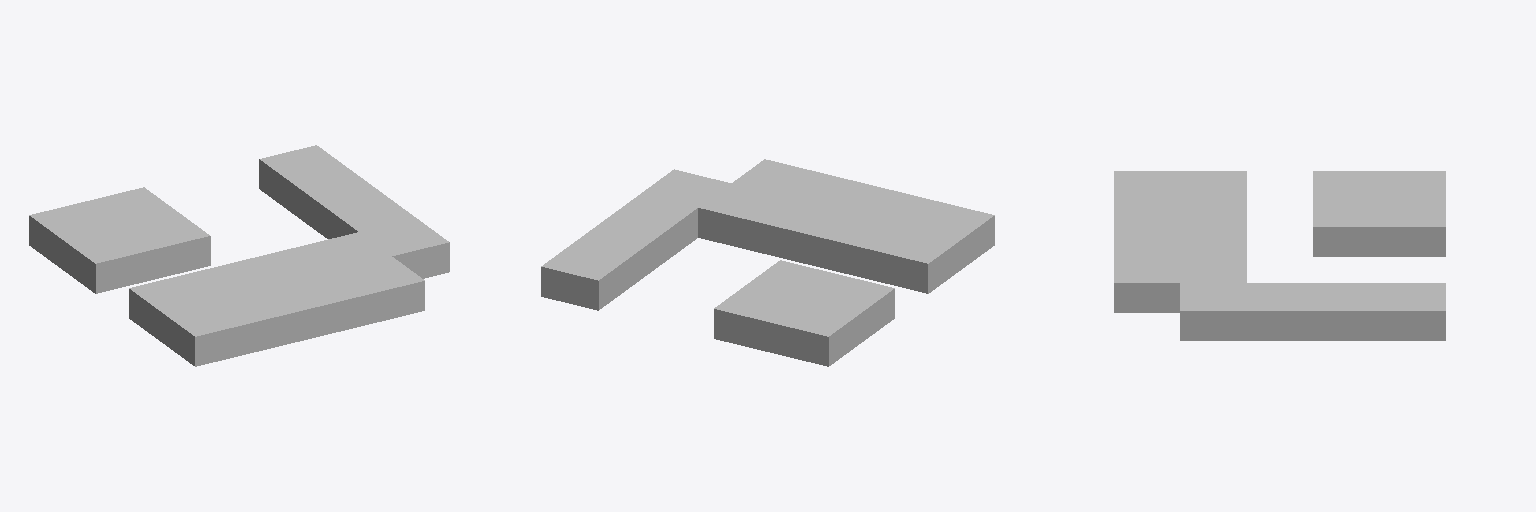
The model's file is 34f_block.obj.
The picture shows the model from 3 angles: view 1: azimuth 30°, elevation 25°; view 2: azimuth 150°, elevation 25°; view 3: azimuth 270°, elevation 25°; orthographic projection.
Visible parts, largest first — view 1: foil.block.0.0_block.3690, foil.block.0.3_block.3692, foil.block.1.3_block.3696, foil.block.2.0_block.3698, foil.block.1.0_block.3694, foil.block.3.0_block.3700, foil.block.4.1_block.3703, foil.block.4.3_block.3705, foil.block.0.4_block.3693, foil.block.0.1_block.3691, foil.block.4.4_block.3706, foil.block.4.2_block.3704 (+4 smaller); view 2: foil.block.4.4_block.3706, foil.block.0.1_block.3691, foil.block.0.4_block.3693, foil.block.1.1_block.3695, foil.block.3.1_block.3701, foil.block.1.4_block.3697, foil.block.2.1_block.3699, foil.block.0.0_block.3690, foil.block.4.3_block.3705, foil.block.0.3_block.3692, foil.block.4.2_block.3704, foil.block.4.1_block.3703 (+4 smaller); view 3: foil.block.1.3_block.3696, foil.block.4.1_block.3703, foil.block.4.3_block.3705, foil.block.1.4_block.3697, foil.block.3.0_block.3700, foil.block.4.2_block.3704, foil.block.4.4_block.3706, foil.block.0.1_block.3691, foil.block.0.3_block.3692, foil.block.1.1_block.3695, foil.block.2.1_block.3699, foil.block.3.1_block.3701 (+4 smaller).
Part boxes in pixels (bbox=[...]): foil.block.0.0_block.3690: bbox=[162, 298, 252, 366]; foil.block.0.3_block.3692: bbox=[62, 226, 152, 293]; foil.block.1.3_block.3696: bbox=[120, 212, 210, 279]; foil.block.2.0_block.3698: bbox=[277, 270, 367, 338]; foil.block.1.0_block.3694: bbox=[220, 285, 309, 352]; foil.block.3.0_block.3700: bbox=[335, 257, 424, 324]; foil.block.4.1_block.3703: bbox=[360, 218, 449, 278]; foil.block.4.3_block.3705: bbox=[292, 169, 382, 237]; foil.block.0.4_block.3693: bbox=[29, 201, 119, 268]; foil.block.0.1_block.3691: bbox=[129, 274, 218, 341]; foil.block.4.4_block.3706: bbox=[259, 145, 348, 212]; foil.block.4.2_block.3704: bbox=[326, 194, 415, 238]; foil.block.4.4_block.3706: bbox=[541, 242, 631, 310]; foil.block.0.1_block.3691: bbox=[871, 226, 961, 293]; foil.block.0.4_block.3693: bbox=[771, 298, 861, 366]; foil.block.1.1_block.3695: bbox=[813, 212, 903, 279]; foil.block.3.1_block.3701: bbox=[698, 183, 788, 251]; foil.block.1.4_block.3697: bbox=[714, 285, 803, 352]; foil.block.2.1_block.3699: bbox=[756, 198, 846, 265]; foil.block.0.0_block.3690: bbox=[904, 201, 994, 268]; foil.block.4.3_block.3705: bbox=[575, 218, 664, 285]; foil.block.0.3_block.3692: bbox=[805, 274, 894, 341]; foil.block.4.2_block.3704: bbox=[608, 194, 697, 261]; foil.block.4.1_block.3703: bbox=[641, 169, 730, 207]; foil.block.1.3_block.3696: bbox=[1313, 199, 1379, 256]; foil.block.4.1_block.3703: bbox=[1180, 283, 1246, 340]; foil.block.4.3_block.3705: bbox=[1313, 283, 1379, 340]; foil.block.1.4_block.3697: bbox=[1380, 199, 1445, 256]; foil.block.3.0_block.3700: bbox=[1114, 255, 1179, 312]; foil.block.4.2_block.3704: bbox=[1247, 283, 1312, 340]; foil.block.4.4_block.3706: bbox=[1380, 283, 1445, 340]; foil.block.0.1_block.3691: bbox=[1180, 171, 1246, 198]; foil.block.0.3_block.3692: bbox=[1313, 171, 1379, 198]; foil.block.1.1_block.3695: bbox=[1180, 199, 1246, 226]; foil.block.2.1_block.3699: bbox=[1180, 227, 1246, 254]; foil.block.3.1_block.3701: bbox=[1180, 255, 1246, 282].
Bounding box in the file's own units: 10 × 1 × 10.